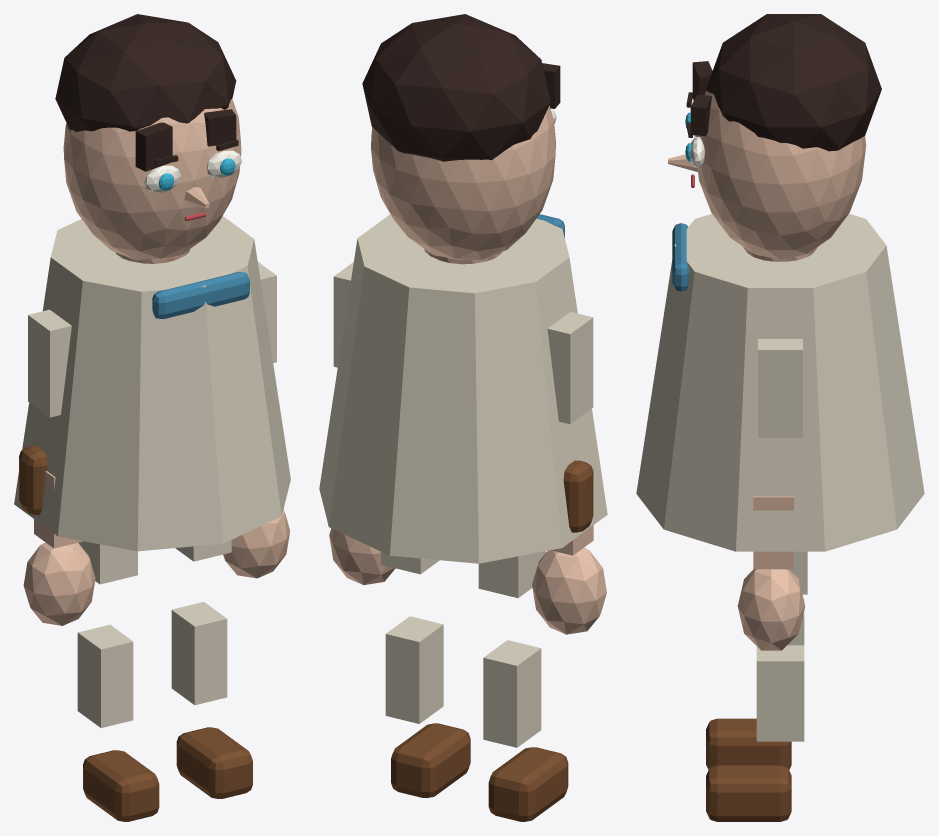
The model's file is iven.glb.
3 views of the same model, side by side, from view 1: azimuth 30°, elevation 25°; view 2: azimuth 150°, elevation 25°; view 3: azimuth 270°, elevation 25° (orthographic). The views are drawn at different scales.
Visible parts, largest first — view 1: Tunic, Head, HairCap, ShinR, ShinL, HandL, BootL, BootR, UpperArmL, Scarf, HandR, MapSatchel (+8 smaller); view 2: Tunic, HairCap, Head, ShinR, ShinL, HandL, BootL, BootR, UpperArmL, HandR, ThighL, MapSatchel (+3 smaller); view 3: Tunic, HairCap, Head, BootR, ShinR, HandR, UpperArmR, BootL, ForearmR, Scarf, HairFringeR, HairFringeL.
Boxes of the visible parts, box(x1,y1,x2,y2) form: Tunic: box(14, 216, 290, 551); Head: box(63, 98, 241, 259); HairCap: box(55, 14, 236, 131); ShinR: box(171, 602, 227, 705); ShinL: box(77, 624, 133, 727); HandL: box(23, 542, 95, 625); BootL: box(83, 750, 159, 821); BootR: box(176, 727, 252, 798); UpperArmL: box(28, 309, 71, 417); Scarf: box(152, 272, 249, 318); HandR: box(223, 509, 290, 578); MapSatchel: box(19, 445, 47, 515); Tunic: box(319, 214, 607, 563); HairCap: box(362, 14, 550, 161); Head: box(371, 105, 555, 260); ShinR: box(385, 616, 443, 723); ShinL: box(483, 640, 541, 747); HandL: box(532, 548, 606, 634); BootL: box(488, 747, 568, 821); BootR: box(391, 723, 470, 797); UpperArmL: box(547, 312, 593, 424); HandR: box(329, 528, 395, 585); ThighL: box(478, 551, 545, 597); MapSatchel: box(563, 460, 593, 532); Tunic: box(636, 214, 924, 551); HairCap: box(706, 14, 881, 151); Head: box(695, 90, 866, 259); BootR: box(706, 765, 791, 821); ShinR: box(756, 645, 804, 741); HandR: box(737, 569, 805, 650); UpperArmR: box(758, 339, 802, 437); BootL: box(706, 718, 791, 769); ForearmR: box(753, 496, 793, 569); Scarf: box(672, 223, 689, 291); HairFringeR: box(690, 94, 711, 136); HairFringeL: box(692, 61, 712, 100).
Bounding box in the file's own units: 0.6685 × 1.89 × 0.6392.
